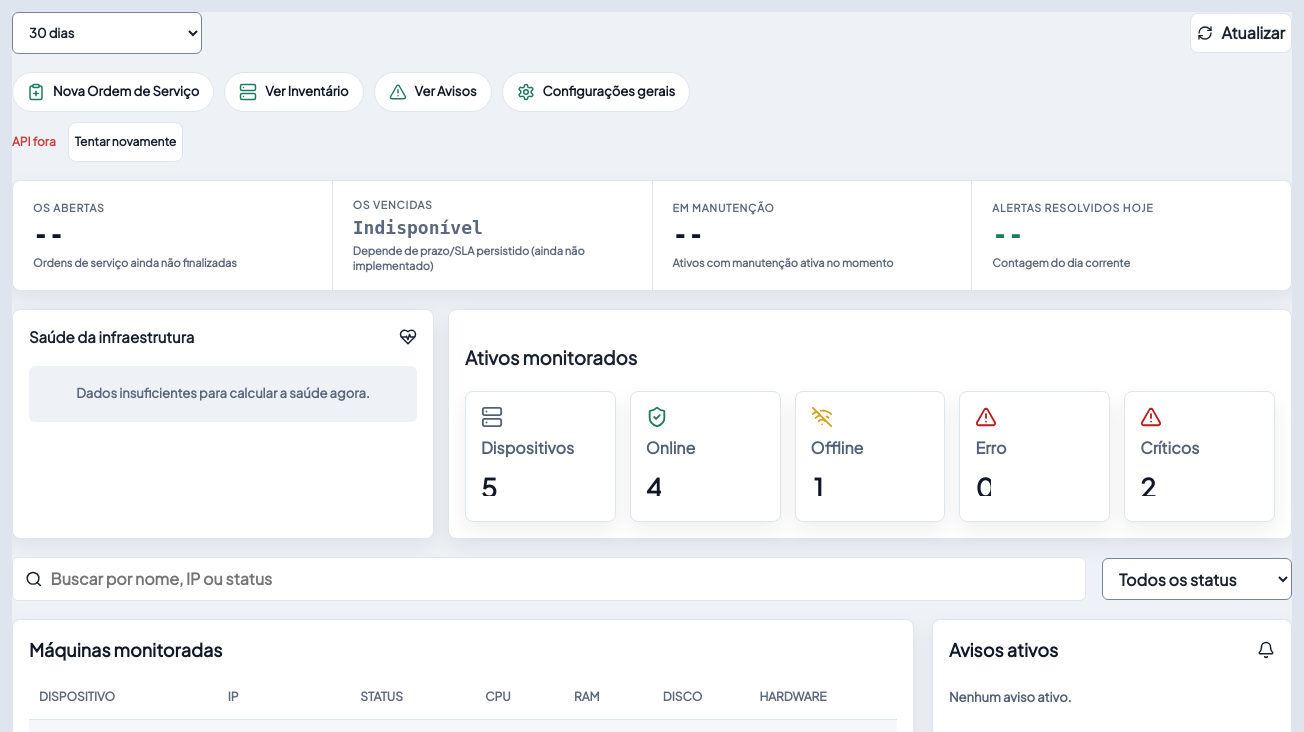
it: DashboardPage › erro do relatorio mostra alerta com Tentar novamente que recarrega
This screenshot has width=1304, height=732.
expect the message shows "API fora": met, box [12,134,56,148]
Click the button "Tentar novamente".
click(126, 142)  # box [68,122,183,162]
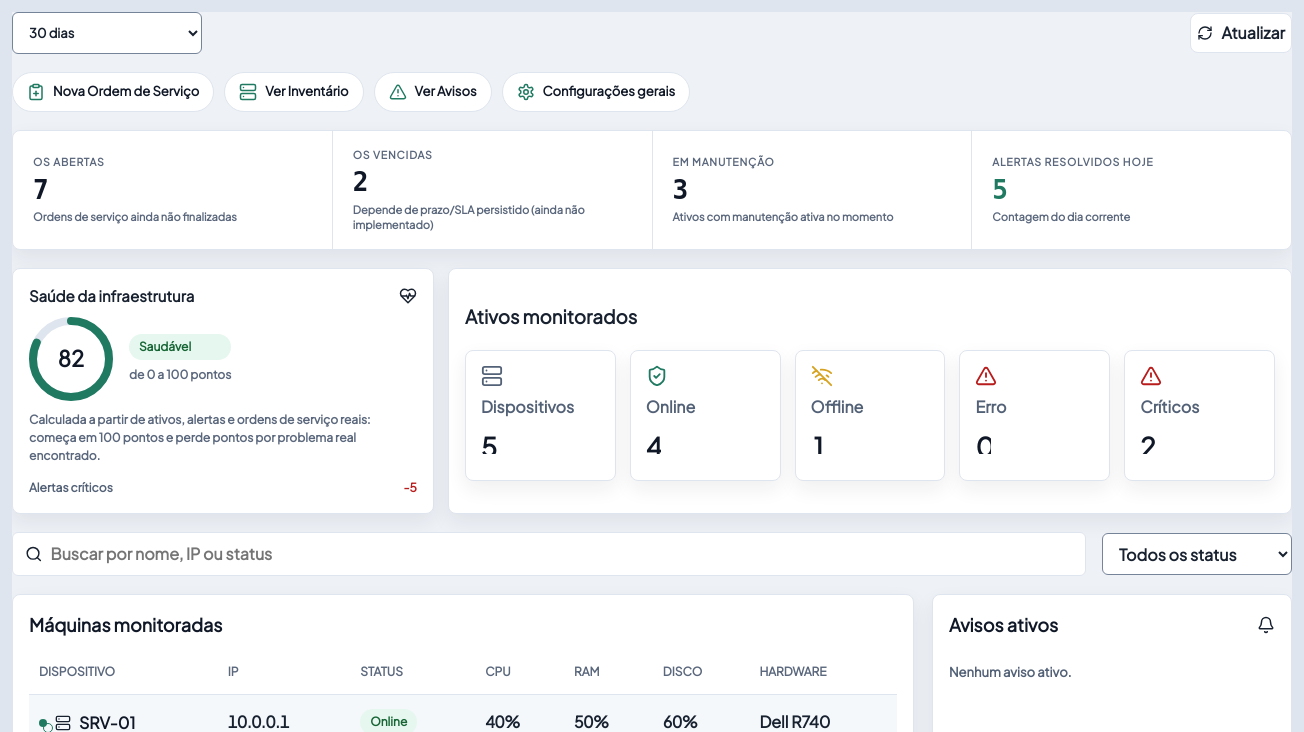
expect the message "API fora Tentar novamente" is gone: met
